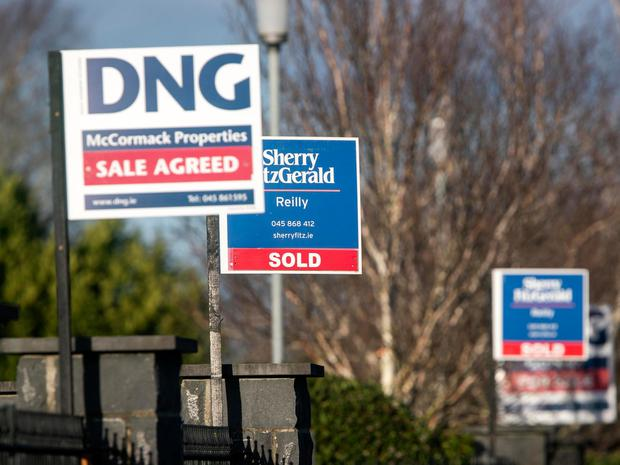property sign: (53, 35, 265, 222), (209, 132, 366, 282), (488, 263, 588, 367)
